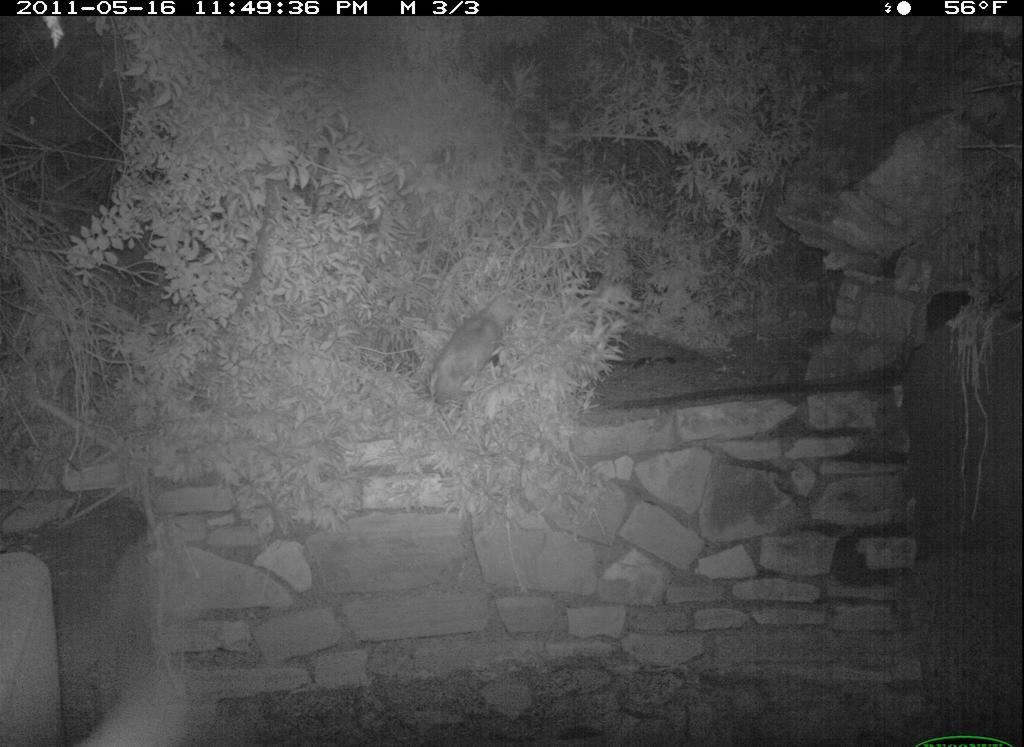opossum: (427, 274, 528, 408)
